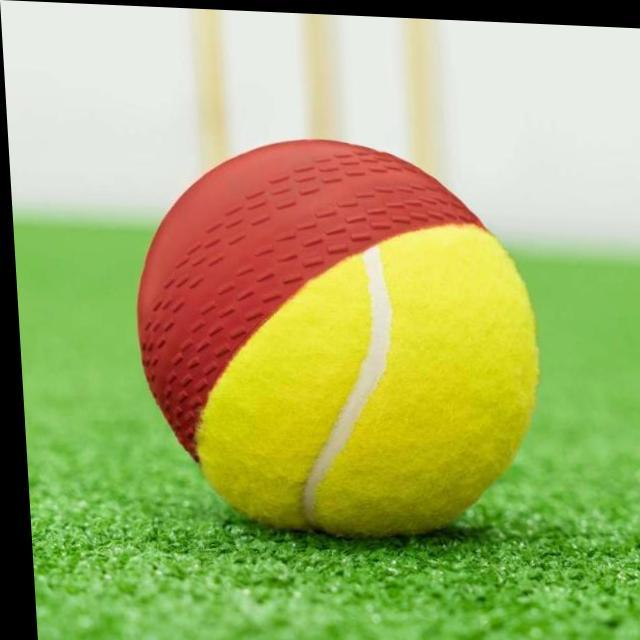cricket ball: (133, 139, 486, 468)
